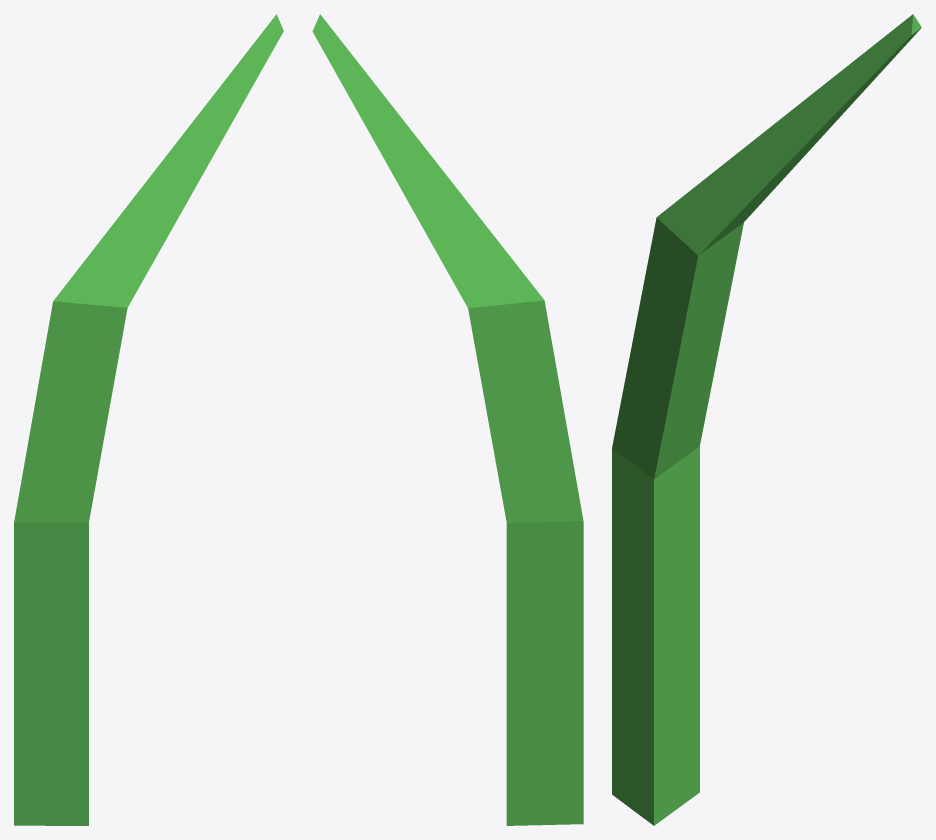
Rendered from blade3.glb.
3 renders of one model, left to right at view 1: azimuth 30°, elevation 25°; view 2: azimuth 150°, elevation 25°; view 3: azimuth 330°, elevation 25°, orthographic. The views are drawn at different scales.
Visible parts, largest first — view 1: 3; view 2: 3; view 3: 3.
Boxes of the visible parts, <box> form: 3: <box>14,14,283,825</box>; 3: <box>312,14,583,825</box>; 3: <box>612,14,921,825</box>.
Size of the model in its own units: 0.1999 by 0.5364 by 0.0521.
